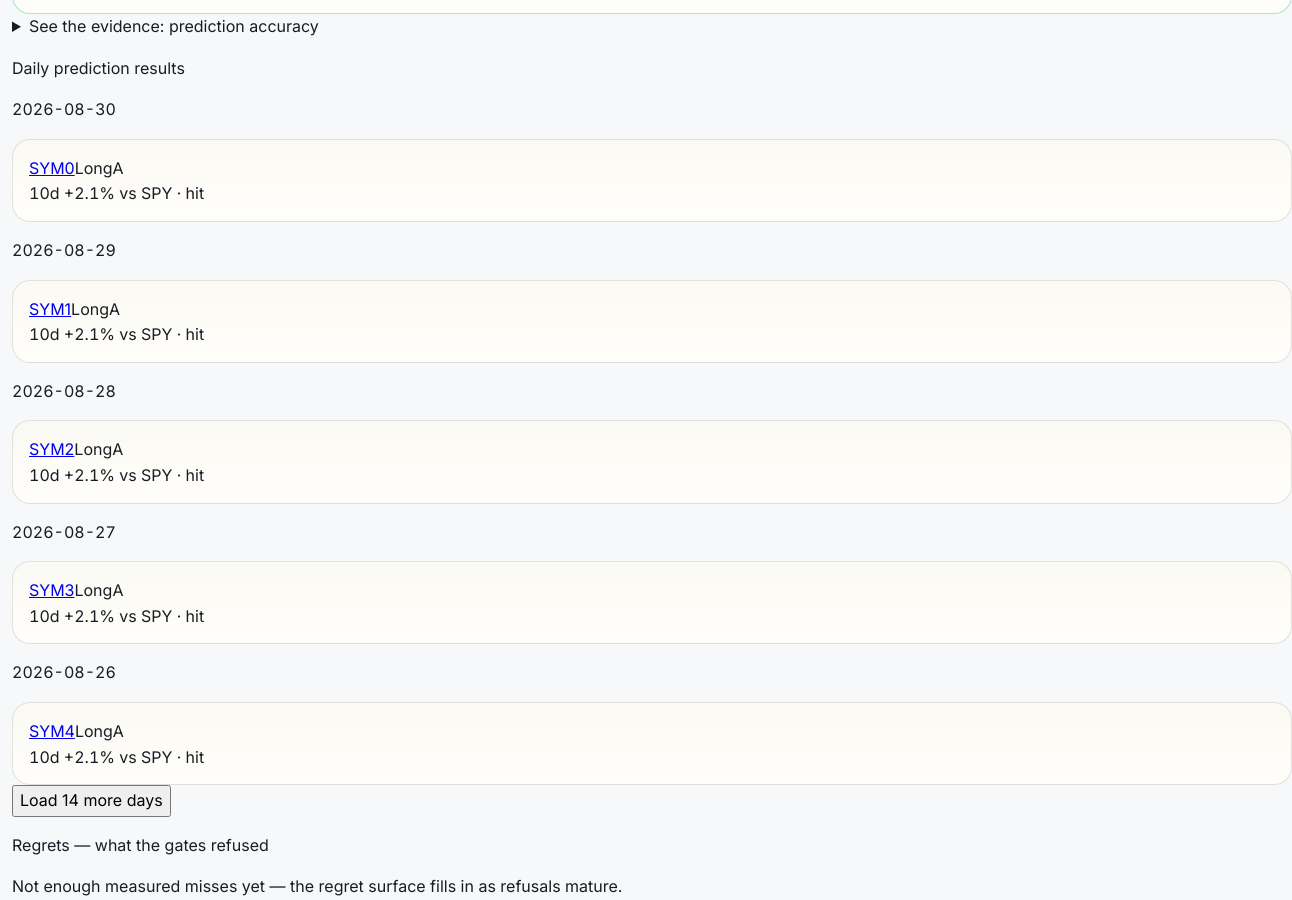
Test: Record — the page a reader can actually reach the end of › the ledger paints five days, then offers more › the button says how many days it will add, and adds them
(page scrolled)
Expected: the text "2026-08-30" is shown, [12,99,116,119]
What coordinates should you click on to do the following:
click the button "Load 14 more days"
I would click on:
 (91, 801)
Its box is [12,785,171,817].
(page scrolled)
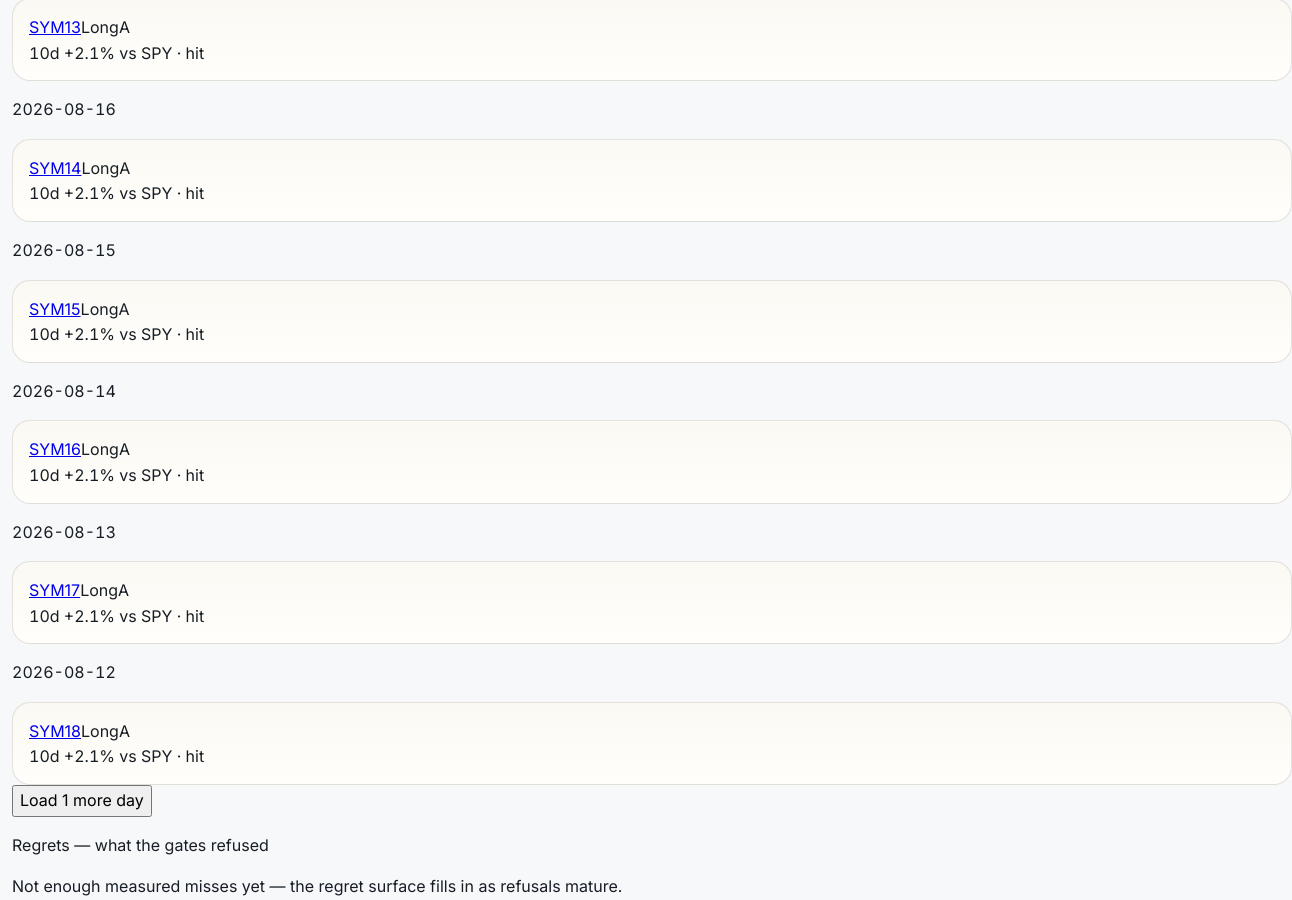
Result: the button "Load 1 more day" is shown at [12,785,152,817]
